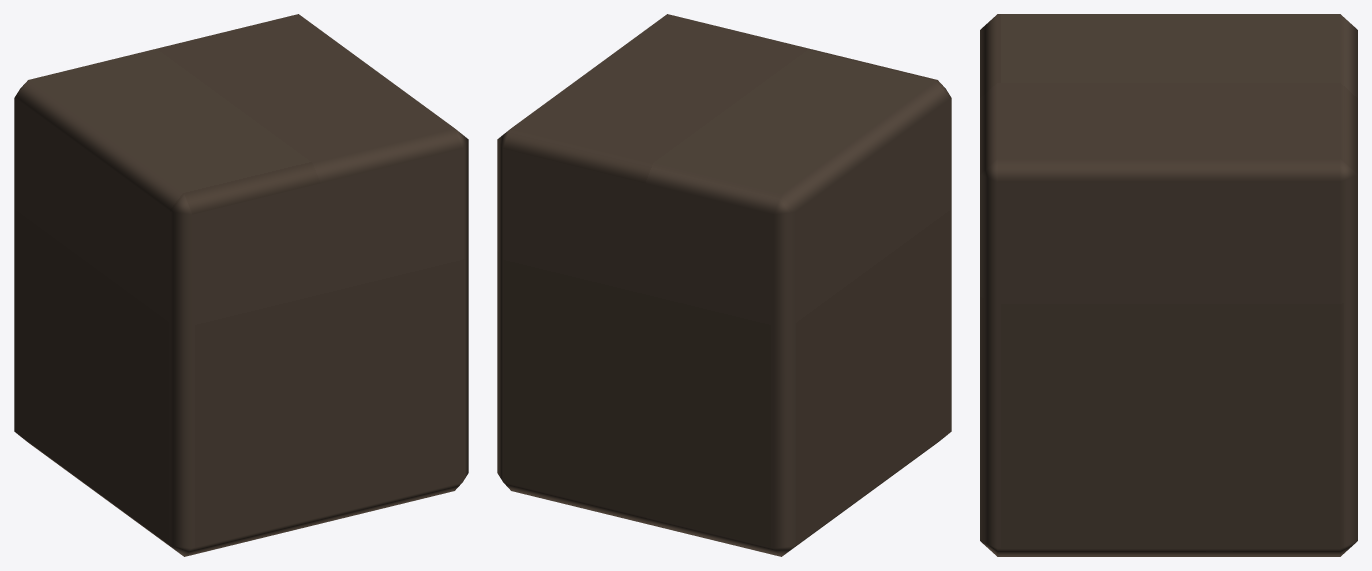
File: Pump-stem.glb
3 renders of one model, left to right at view 1: azimuth 30°, elevation 25°; view 2: azimuth 150°, elevation 25°; view 3: azimuth 270°, elevation 25°, orthographic. The views are drawn at different scales.
Visible parts, largest first — view 1: Pump-stem; view 2: Pump-stem; view 3: Pump-stem.
Part boxes in pixels (x1,y1,x2,y2): Pump-stem: (14, 14, 468, 556); Pump-stem: (497, 14, 951, 556); Pump-stem: (980, 14, 1357, 556).
Bounding box in the file's own units: 0.043 × 0.05 × 0.043.
Materials: 1 (1 with a texture image).
